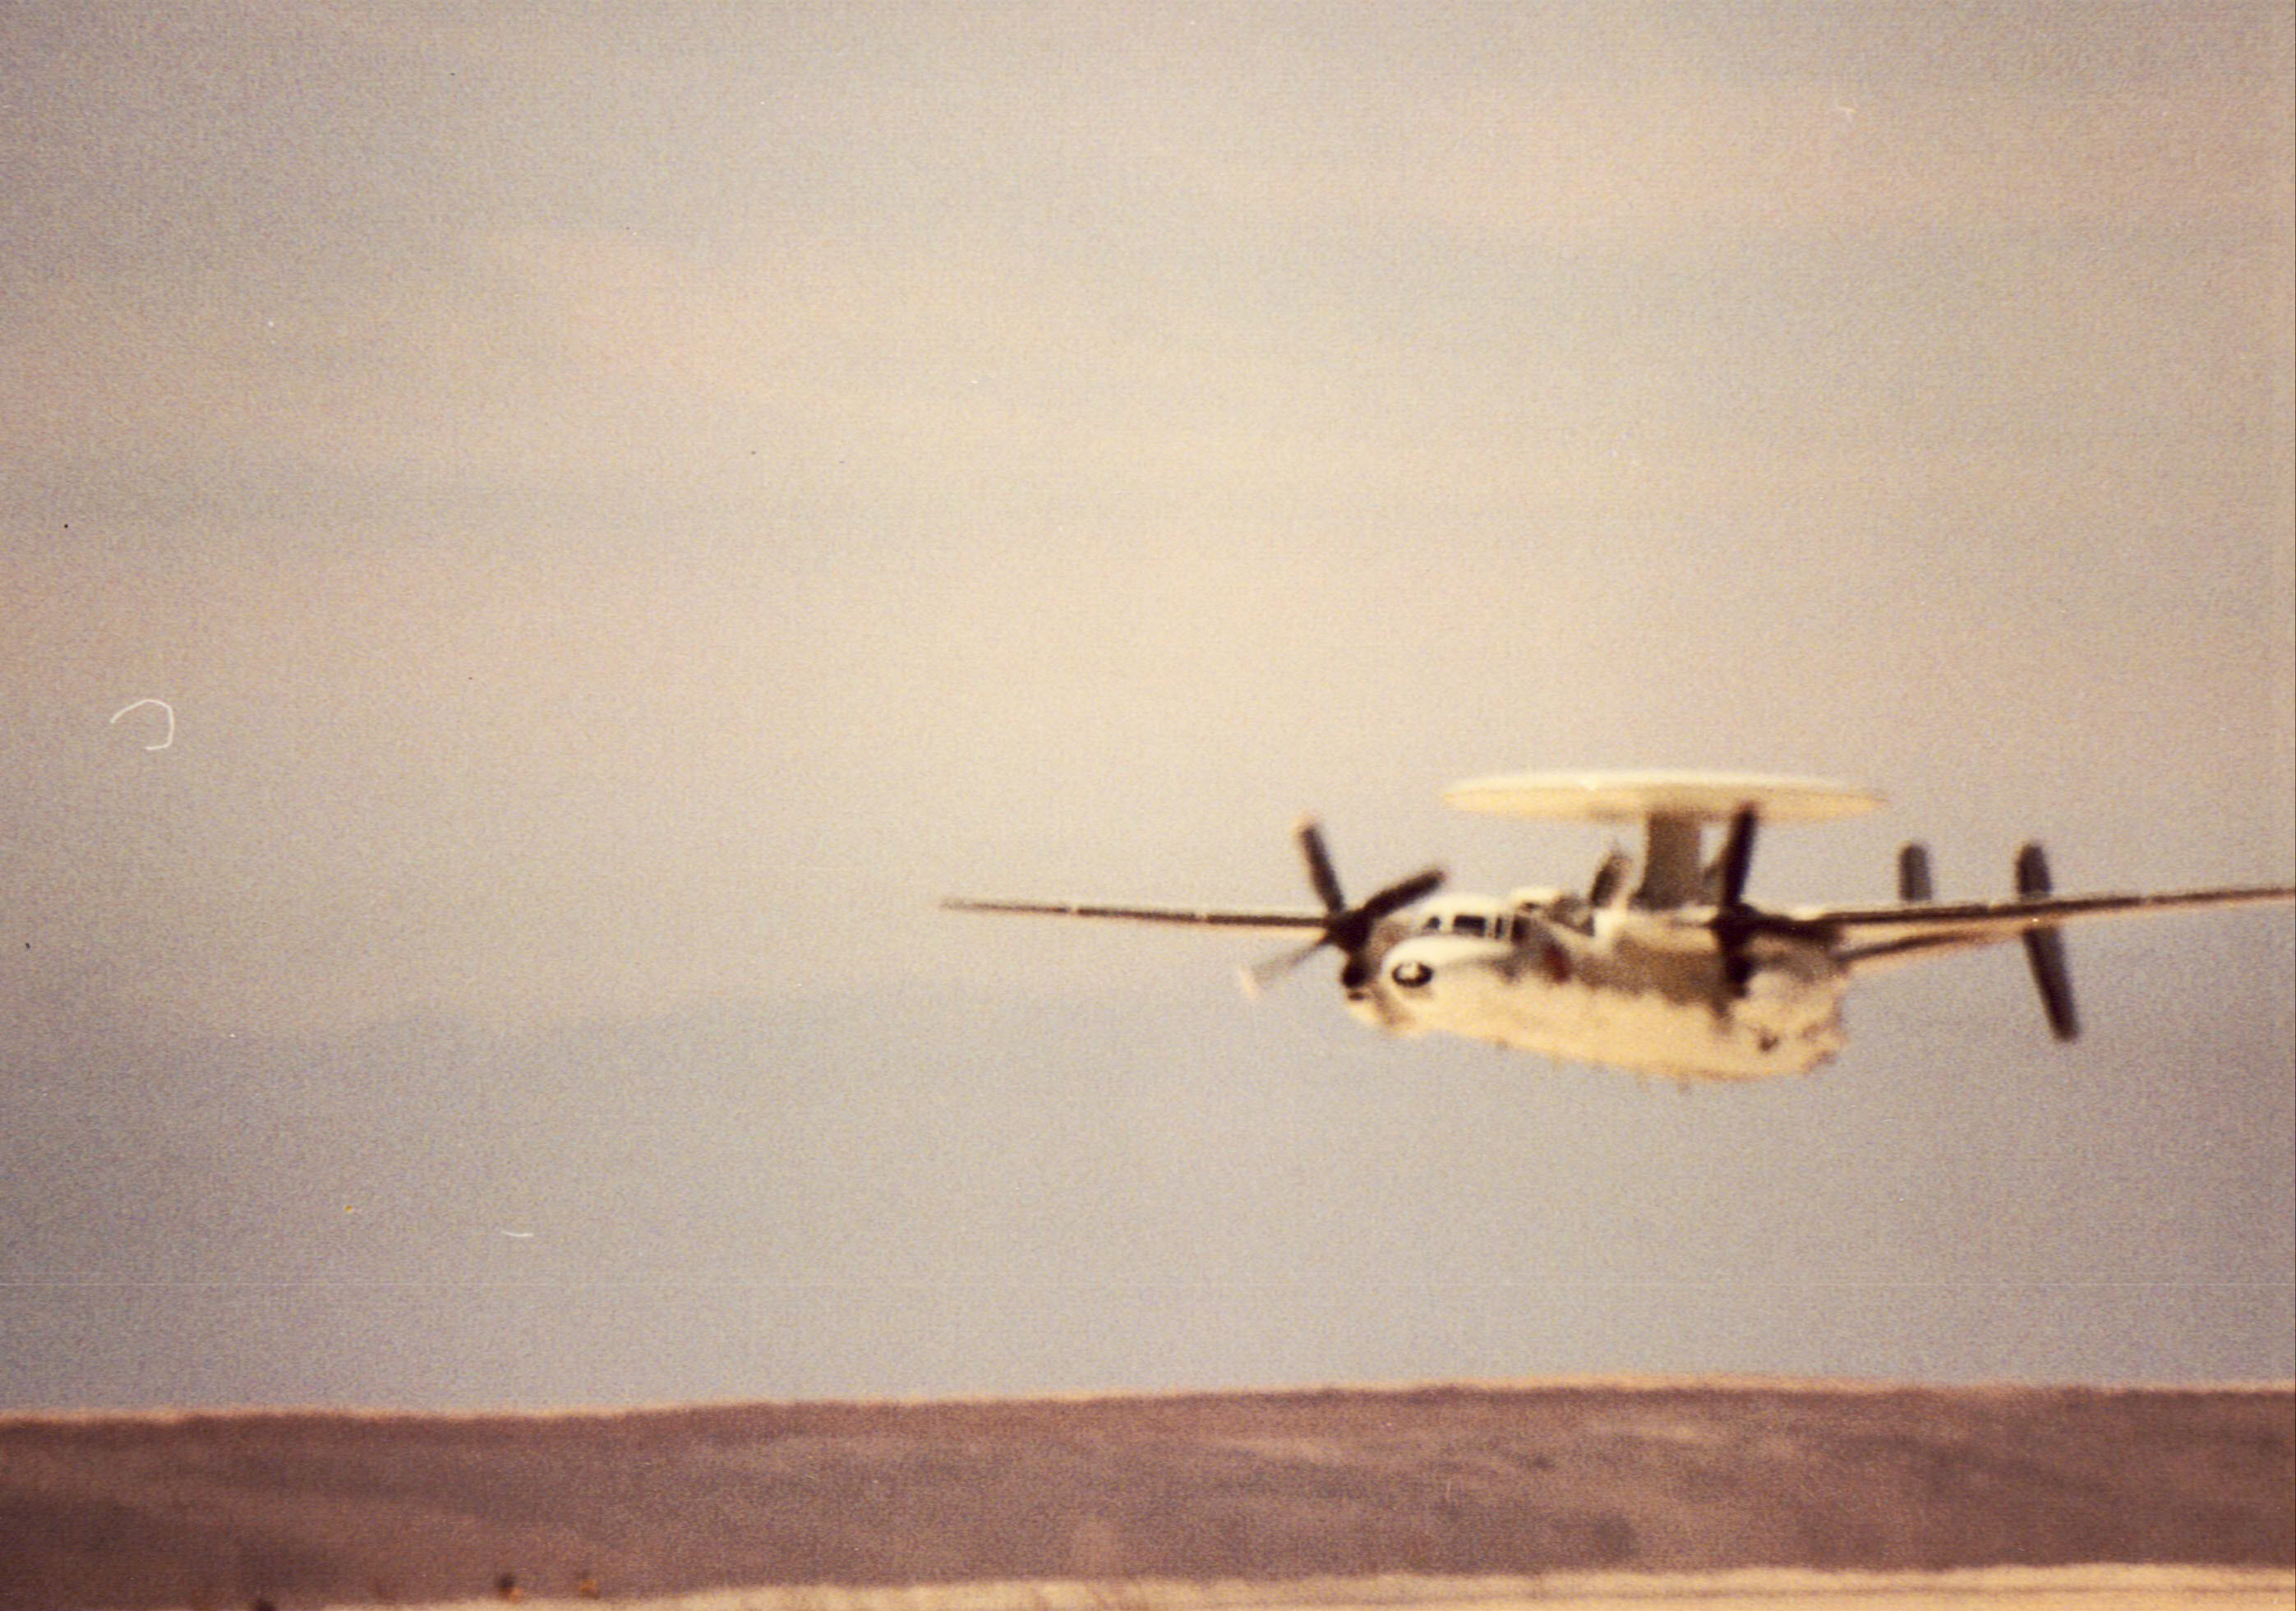E2: (930, 764, 2296, 1098)
